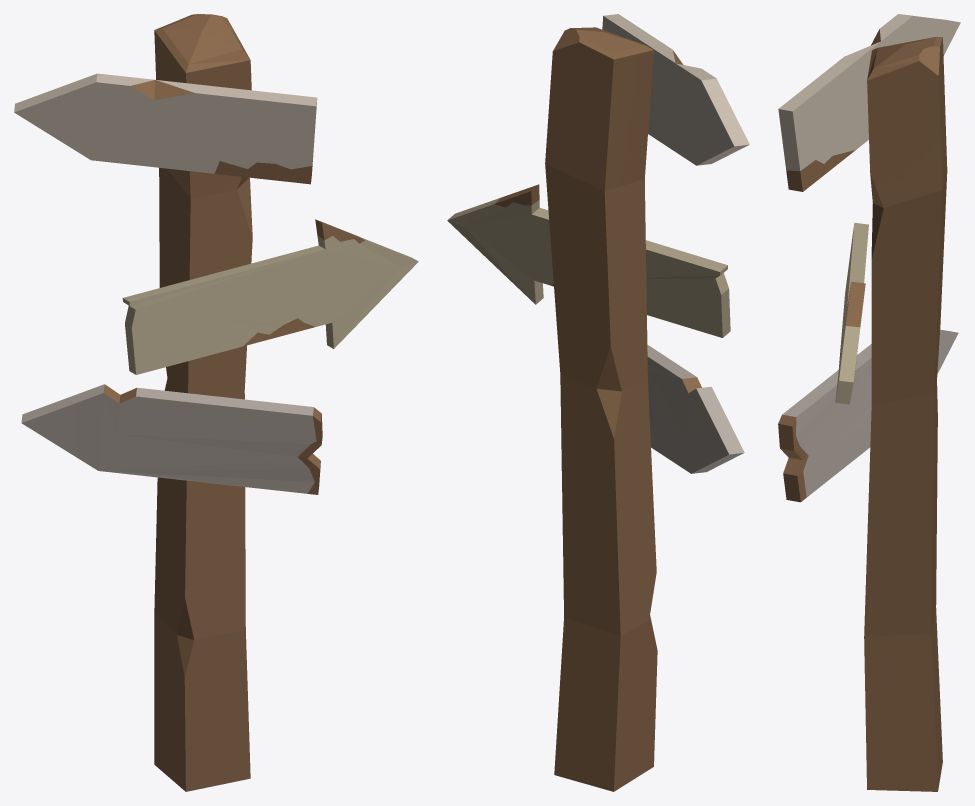
File: SM_Prop_RoadSign_01.glb
3 views of the same model, side by side, from view 1: azimuth 30°, elevation 25°; view 2: azimuth 150°, elevation 25°; view 3: azimuth 270°, elevation 25° (orthographic).
Parts seen in each view (by area): view 1: SM_Prop_RoadSign_01; view 2: SM_Prop_RoadSign_01; view 3: SM_Prop_RoadSign_01.
Part boxes in pixels (bbox=[...]): SM_Prop_RoadSign_01: bbox=[14, 14, 418, 791]; SM_Prop_RoadSign_01: bbox=[447, 14, 749, 791]; SM_Prop_RoadSign_01: bbox=[778, 14, 960, 791].
Bounding box in the file's own units: 1.16 × 2.35 × 0.5299.
1 material, 1 textured.
